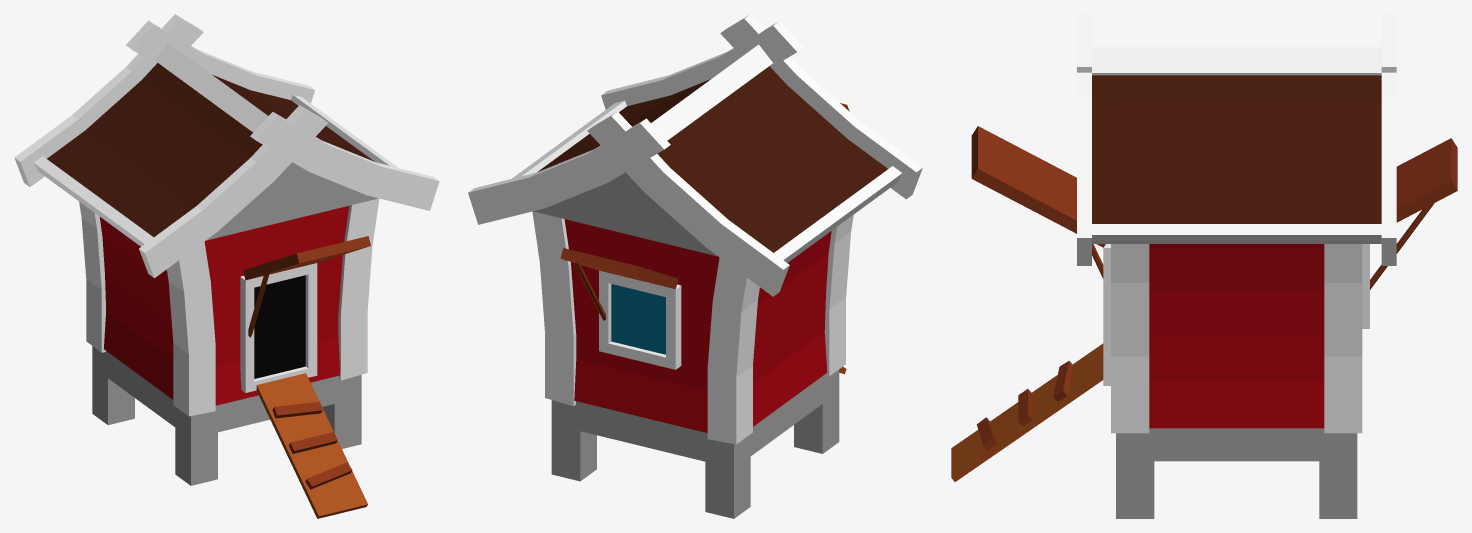
Rendered from Chicken_House (3).fbx.
3 views of the same model, side by side, from view 1: azimuth 30°, elevation 25°; view 2: azimuth 150°, elevation 25°; view 3: azimuth 270°, elevation 25° (orthographic). The views are drawn at different scales.
Parts seen in each view (by area): view 1: Roof.001; view 2: Roof.001; view 3: Roof.001.
Boxes of the visible parts, <box> form: Roof.001: <box>14,14,439,518</box>; Roof.001: <box>468,14,922,518</box>; Roof.001: <box>951,14,1457,518</box>.
Bounding box in the file's own units: 164 × 194 × 200.
